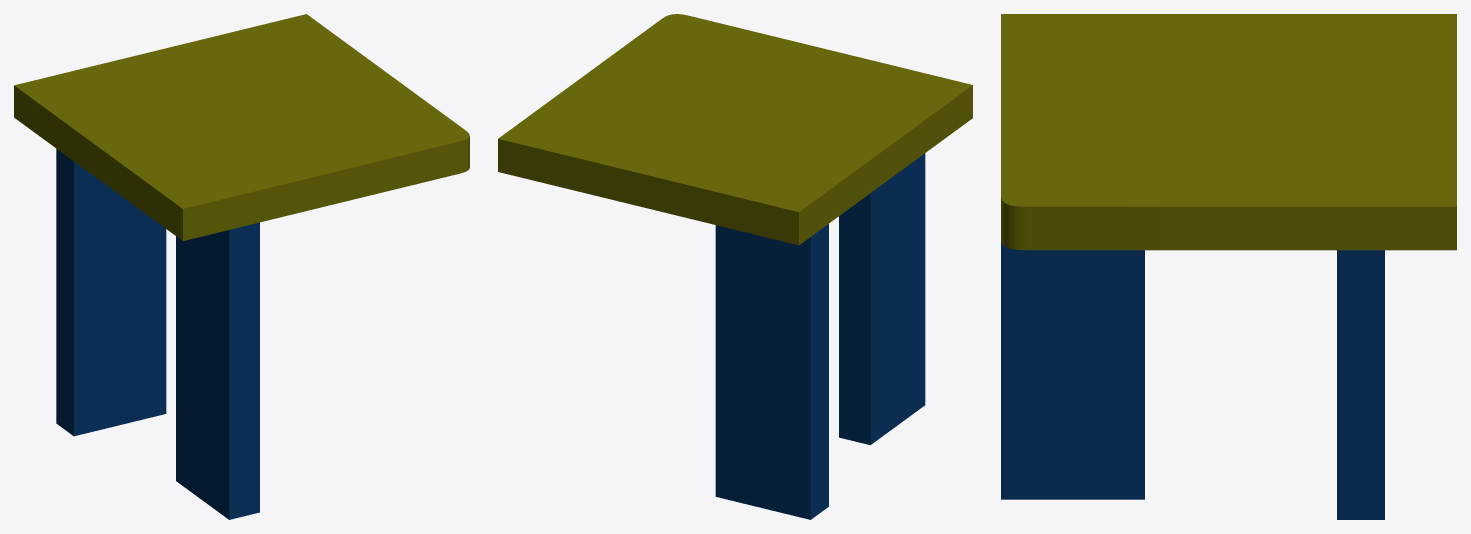
File: T6DirF.fbx
3 renders of one model, left to right at view 1: azimuth 30°, elevation 25°; view 2: azimuth 150°, elevation 25°; view 3: azimuth 270°, elevation 25°, orthographic. The views are drawn at different scales.
Visible parts, largest first — view 1: 3, 4, 1, 2; view 2: 4, 3, 2, 1; view 3: 3, 4, 2, 1.
Boxes of the visible parts, bbox=[...] form: 3: bbox=[98, 111, 329, 519]; 4: bbox=[14, 49, 244, 436]; 1: bbox=[245, 76, 469, 205]; 2: bbox=[161, 14, 390, 111]; 4: bbox=[648, 112, 885, 519]; 3: bbox=[736, 48, 972, 445]; 2: bbox=[498, 75, 734, 208]; 1: bbox=[585, 14, 821, 111]; 3: bbox=[1001, 14, 1228, 499]; 4: bbox=[1229, 14, 1456, 519]; 2: bbox=[1229, 110, 1456, 250]; 1: bbox=[1001, 110, 1228, 250].
Bounding box in the file's own units: 190 × 200 × 190.
